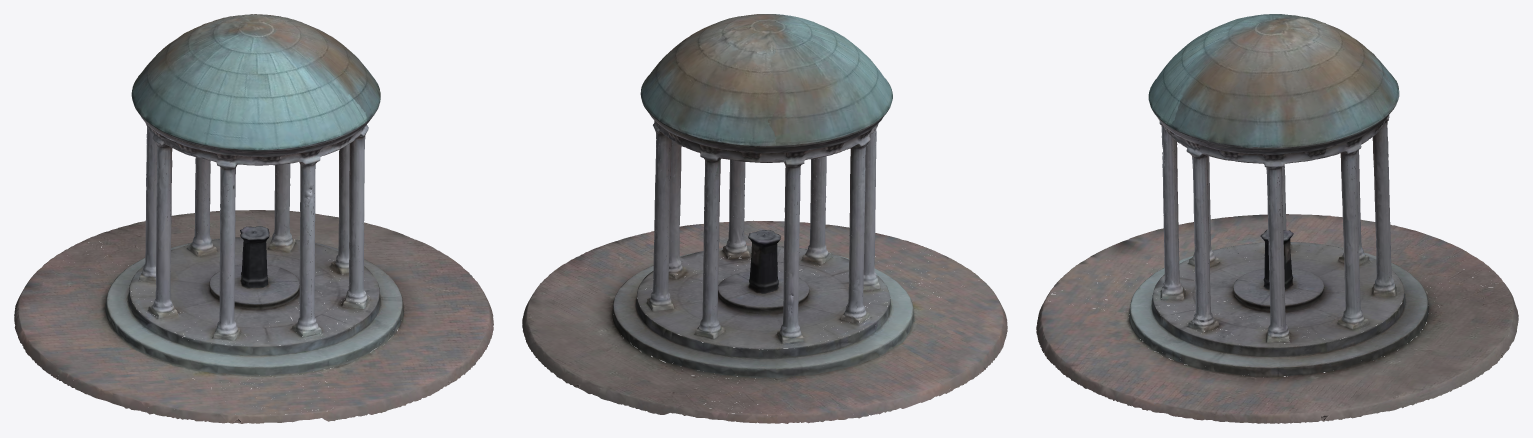
3 views of the same model, side by side, from view 1: azimuth 30°, elevation 25°; view 2: azimuth 150°, elevation 25°; view 3: azimuth 270°, elevation 25° (orthographic).
Parts seen in each view (by area): view 1: Object_4, Object_5, Object_2, Object_3, Object_6; view 2: Object_5, Object_4, Object_2, Object_3, Object_6; view 3: Object_5, Object_4, Object_2, Object_3, Object_6.
Boxes of the visible parts, <box> form: Object_4: <box>14,130,403,423</box>; Object_5: <box>14,180,493,423</box>; Object_2: <box>131,14,380,167</box>; Object_3: <box>146,126,368,318</box>; Object_6: <box>145,145,364,321</box>; Object_5: <box>522,219,1007,423</box>; Object_4: <box>612,134,1007,423</box>; Object_2: <box>640,14,892,158</box>; Object_3: <box>650,115,878,315</box>; Object_6: <box>653,145,875,327</box>; Object_5: <box>1036,194,1518,423</box>; Object_4: <box>1046,130,1498,377</box>; Object_2: <box>1148,14,1399,161</box>; Object_3: <box>1159,115,1391,301</box>; Object_6: <box>1162,157,1391,322</box>.
Bounding box in the file's own units: 18.26 × 12.65 × 18.26.
Materials: 1 (1 with a texture image).
